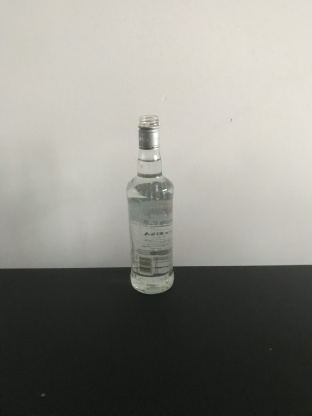nakretka: (136, 115, 160, 150)
